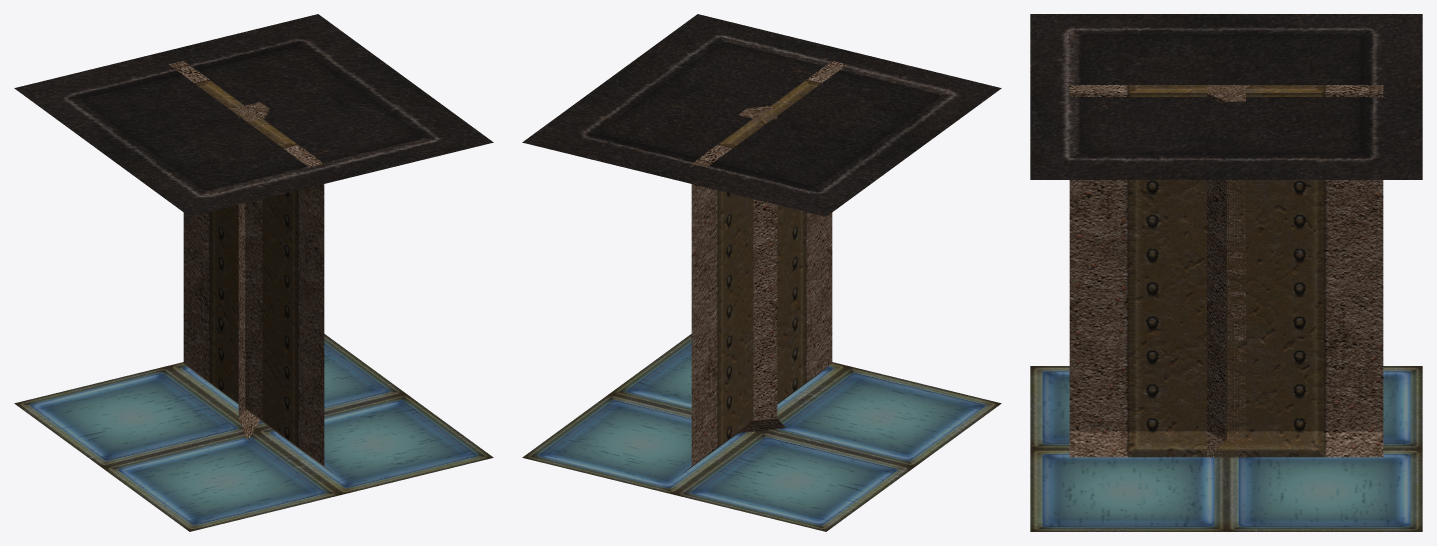
File: qtile-tech-2.obj
The picture shows the model from 3 angles, left to right: view 1: azimuth 30°, elevation 25°; view 2: azimuth 150°, elevation 25°; view 3: azimuth 270°, elevation 25°; orthographic projection. The views are drawn at different scales.
Parts seen in each view (by area): view 1: ceiling_Plane.001, floor_Plane, wall_Plane.009, filler_Plane.005, corner-outer_Plane.011; view 2: ceiling_Plane.001, floor_Plane, wall_Plane.009, corner-outer_Plane.011; view 3: wall_Plane.009, ceiling_Plane.001, floor_Plane, corner-inner_Plane.010, filler_Plane.005.
Boxes of the visible parts, box(x1,y1,x2,y2) form: ceiling_Plane.001: box(14, 14, 493, 216); floor_Plane: box(14, 334, 493, 531); wall_Plane.009: box(169, 61, 337, 476); filler_Plane.005: box(238, 106, 266, 424); corner-outer_Plane.011: box(233, 106, 260, 440); ceiling_Plane.001: box(522, 14, 1001, 216); floor_Plane: box(522, 334, 1001, 531); wall_Plane.009: box(678, 61, 846, 476); corner-outer_Plane.011: box(738, 116, 785, 433); wall_Plane.009: box(1069, 85, 1383, 457); ceiling_Plane.001: box(1030, 14, 1422, 179); floor_Plane: box(1030, 366, 1422, 531); corner-inner_Plane.010: box(1207, 85, 1245, 456); filler_Plane.005: box(1207, 86, 1245, 456).
Bounding box in the file's own units: 1 × 1 × 1.
Materials: 3 (3 with a texture image).
